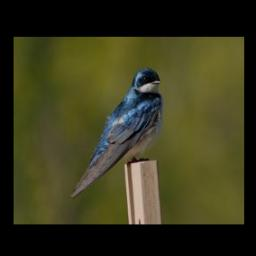Swallow: (69, 64, 165, 202)
